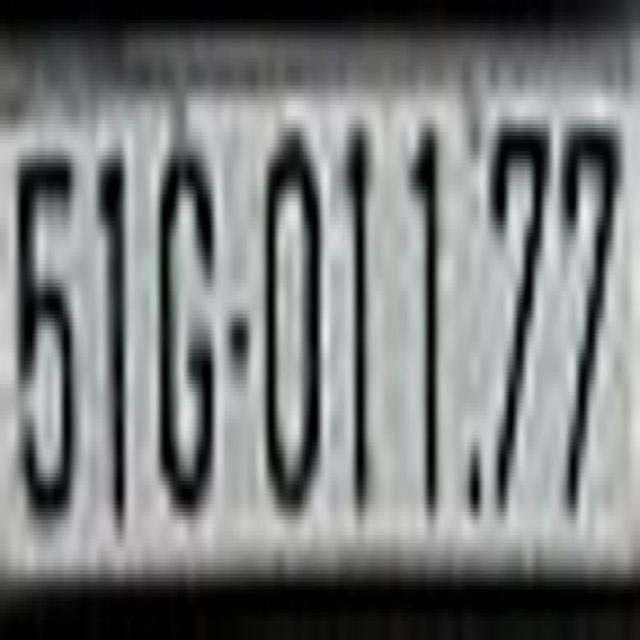0: (264, 109, 324, 512)
1: (341, 109, 376, 504), (409, 124, 442, 524), (98, 144, 130, 543)
5: (19, 151, 71, 512)
7: (482, 101, 554, 508), (560, 105, 628, 508)
G: (157, 143, 216, 516)
